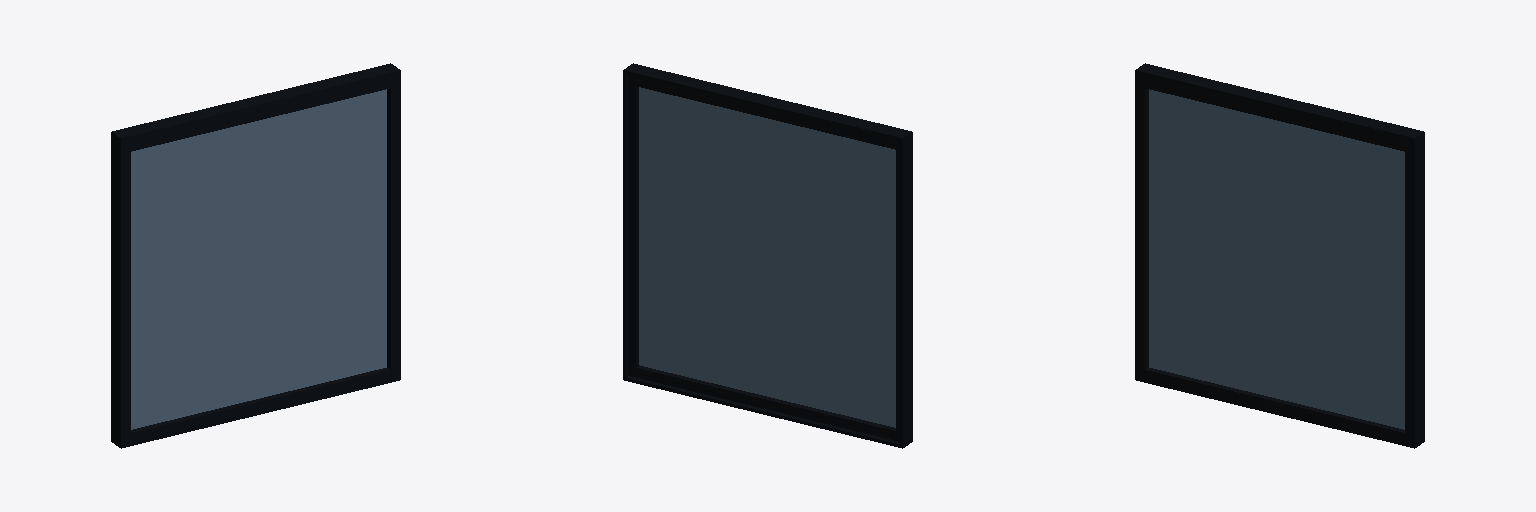
File: chuangh13.obj
3 renders of one model, left to right at view 1: azimuth 30°, elevation 25°; view 2: azimuth 150°, elevation 25°; view 3: azimuth 330°, elevation 25°, orthographic.
Parts seen in each view (by area): view 1: Rectangle234, Rectangle232, Rectangle233; view 2: Rectangle234, Rectangle233, Rectangle232; view 3: Rectangle234, Rectangle232, Rectangle233.
Boxes of the visible parts, x1,y1,x2,y2 form: Rectangle234: [131, 89, 386, 429]; Rectangle232: [124, 74, 397, 444]; Rectangle233: [111, 63, 400, 448]; Rectangle234: [639, 87, 895, 427]; Rectangle233: [623, 63, 912, 448]; Rectangle232: [629, 75, 899, 441]; Rectangle234: [1149, 89, 1404, 429]; Rectangle232: [1138, 74, 1411, 444]; Rectangle233: [1135, 63, 1424, 448].
Bounding box in the file's own units: 12 × 12.72 × 0.7001.